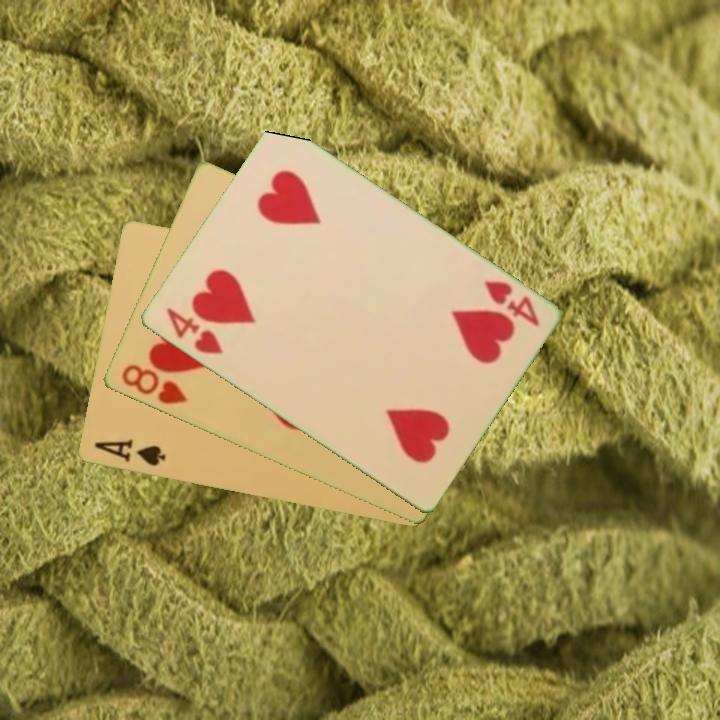4h: (162, 304, 226, 358), (480, 277, 542, 330)
8h: (117, 361, 190, 408)
As: (90, 435, 168, 470)
